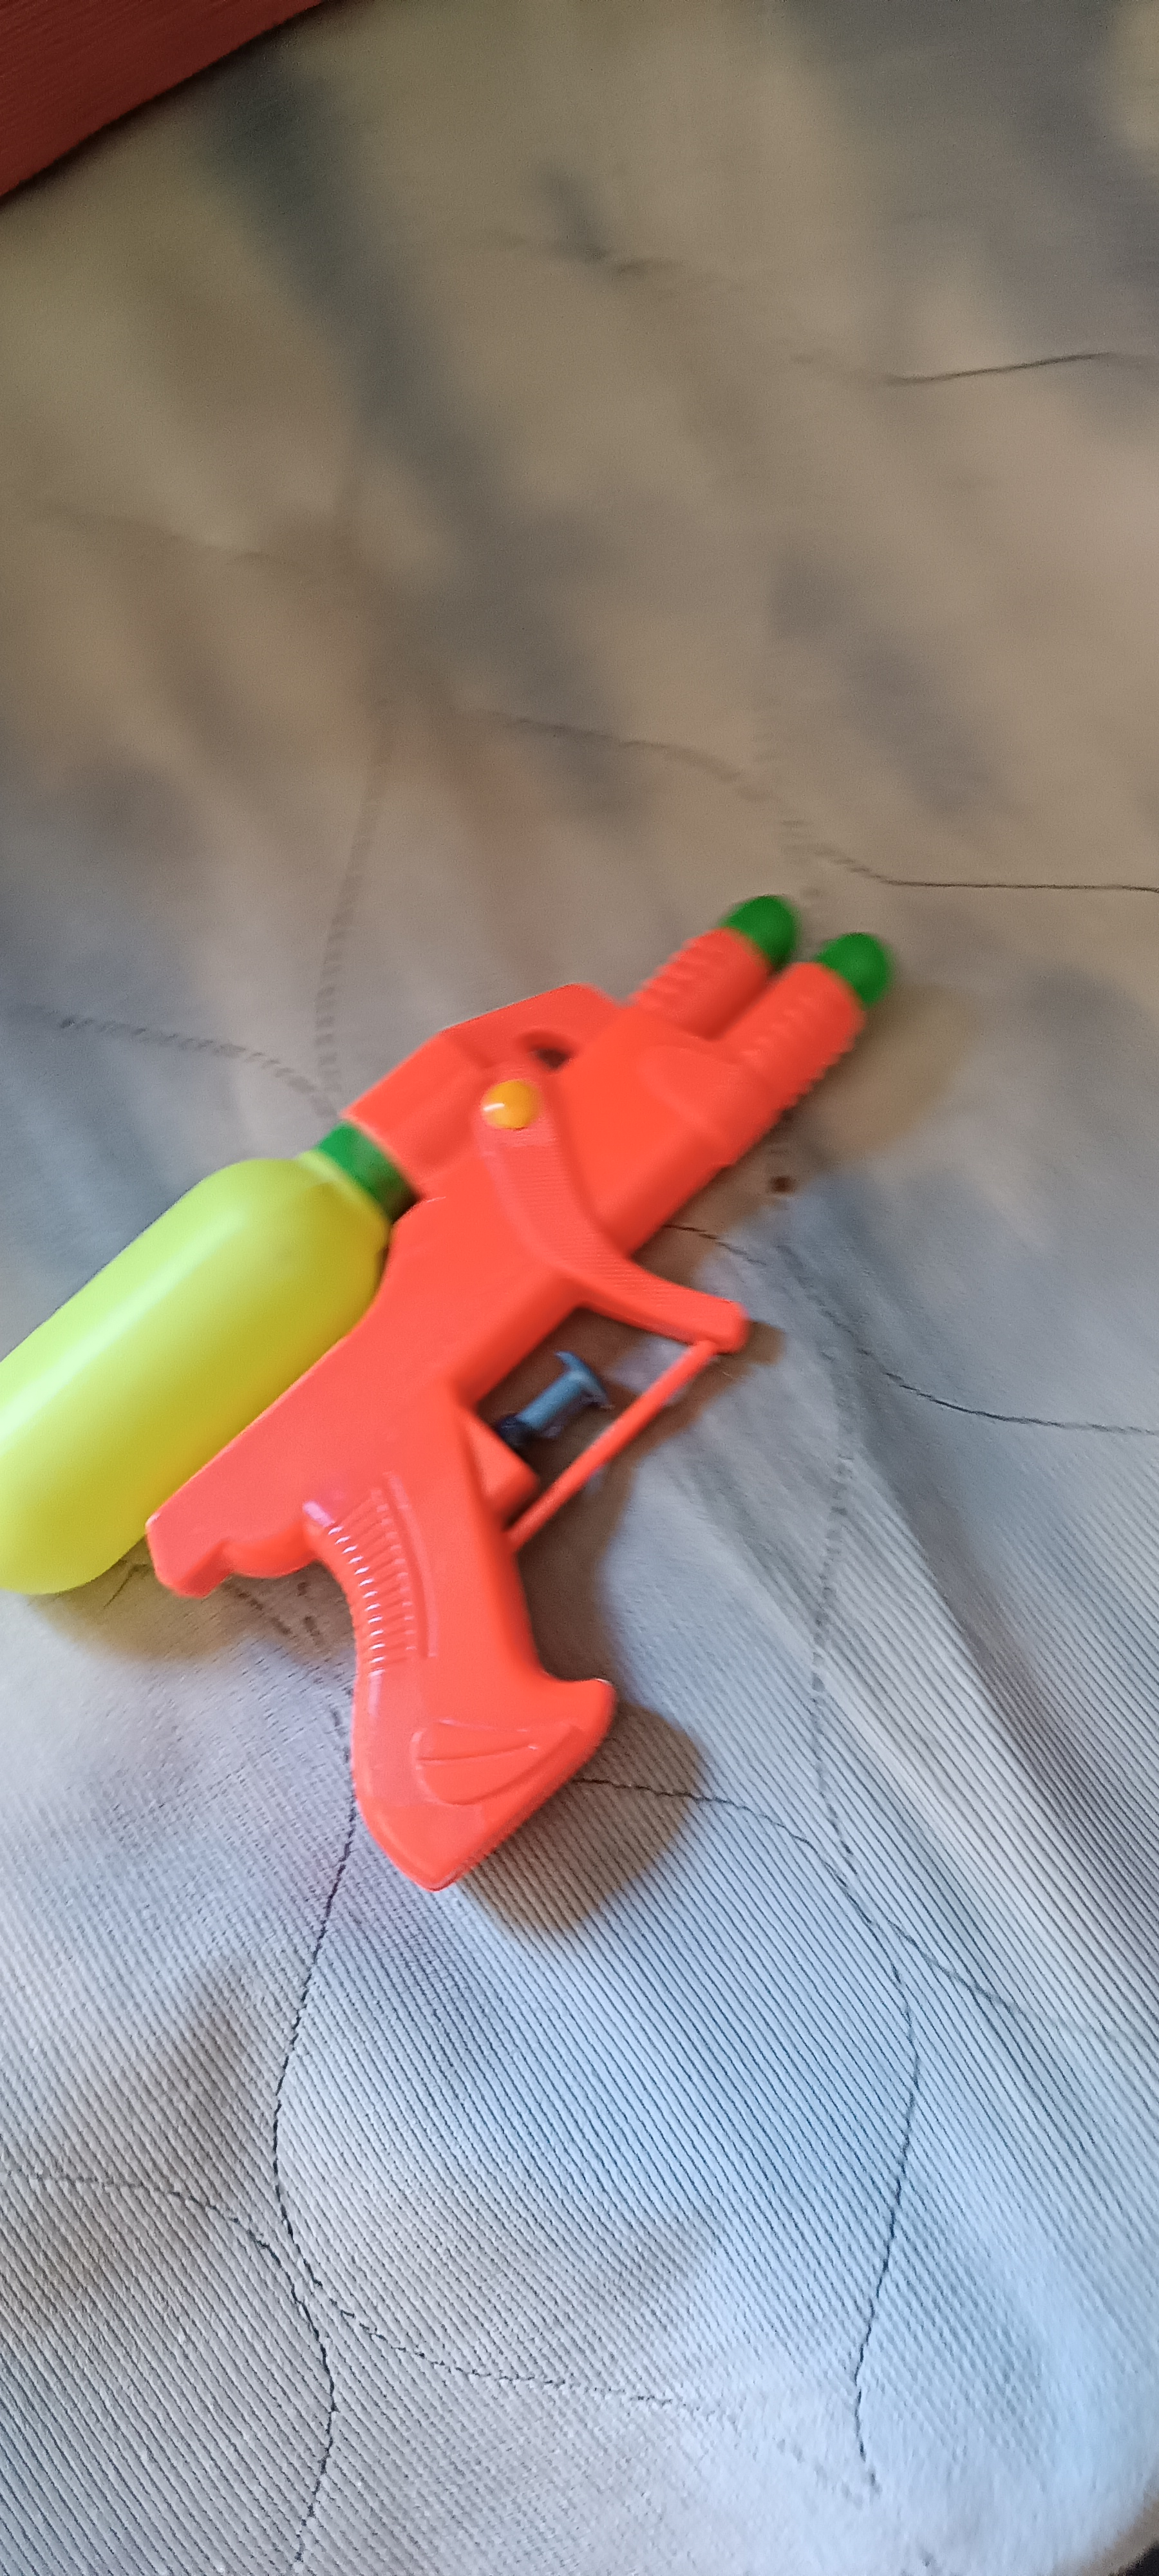Water Gun: (0, 894, 893, 1891)
